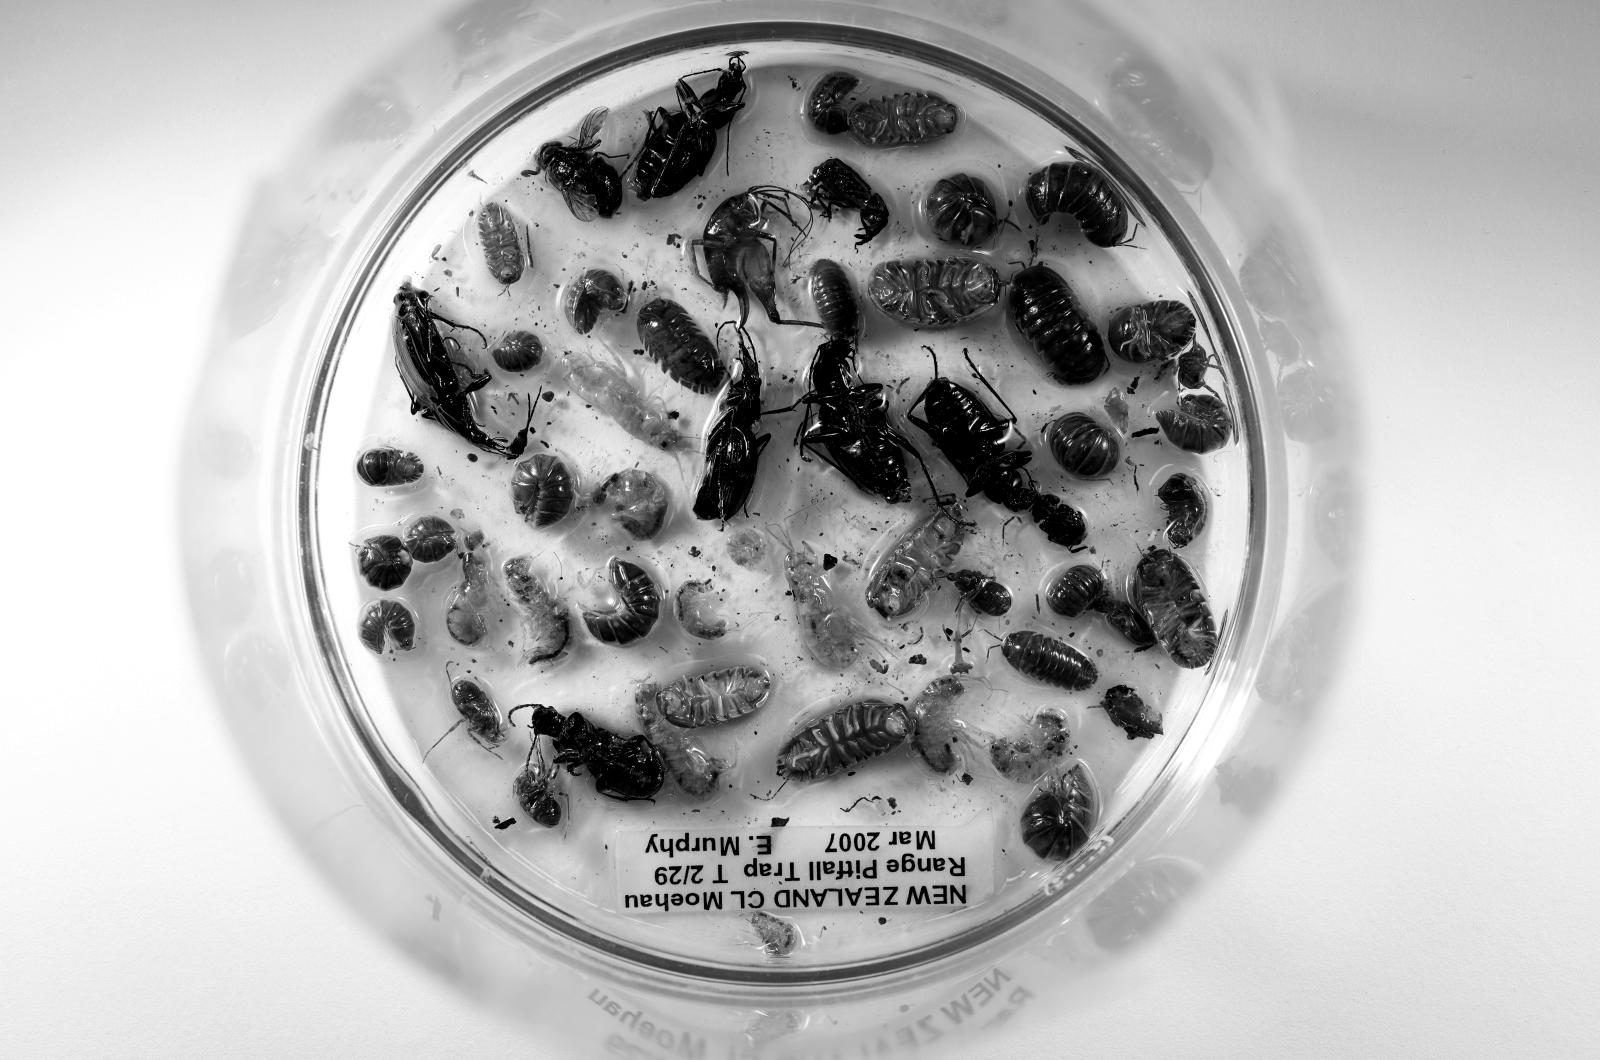amphipoda: (778, 537, 888, 668), (559, 354, 681, 450), (503, 556, 572, 665), (991, 708, 1072, 783), (909, 677, 969, 776), (591, 469, 669, 540), (447, 553, 503, 649), (675, 581, 728, 640), (750, 913, 800, 956), (725, 528, 766, 571)
carabidae: (797, 338, 925, 503), (906, 357, 1038, 512), (394, 279, 506, 453), (631, 53, 747, 199), (694, 329, 772, 528), (516, 705, 666, 801)
coleoptera: (806, 158, 888, 245), (1031, 494, 1088, 547)
diptera: (534, 109, 622, 220)
isopoda: (1009, 264, 1109, 385), (866, 497, 966, 618), (778, 702, 912, 783), (634, 683, 725, 801), (1131, 550, 1219, 668), (1025, 161, 1128, 248), (869, 258, 1000, 326), (638, 298, 725, 394), (1022, 761, 1100, 860), (656, 665, 769, 727), (584, 559, 659, 646), (847, 93, 956, 146), (1000, 630, 1097, 689), (1109, 301, 1197, 363), (925, 174, 997, 245), (512, 453, 575, 528), (1047, 413, 1119, 478), (809, 261, 862, 348), (1156, 394, 1231, 453), (566, 270, 634, 332), (478, 205, 525, 286), (1156, 475, 1206, 547), (806, 71, 859, 134), (359, 599, 416, 655), (1047, 565, 1106, 618), (356, 537, 412, 590), (356, 450, 425, 488), (406, 516, 456, 562), (494, 332, 544, 373)
opiliones: (512, 736, 562, 829), (450, 680, 506, 748), (947, 568, 1012, 618)
orthoptera: (694, 186, 819, 326)
